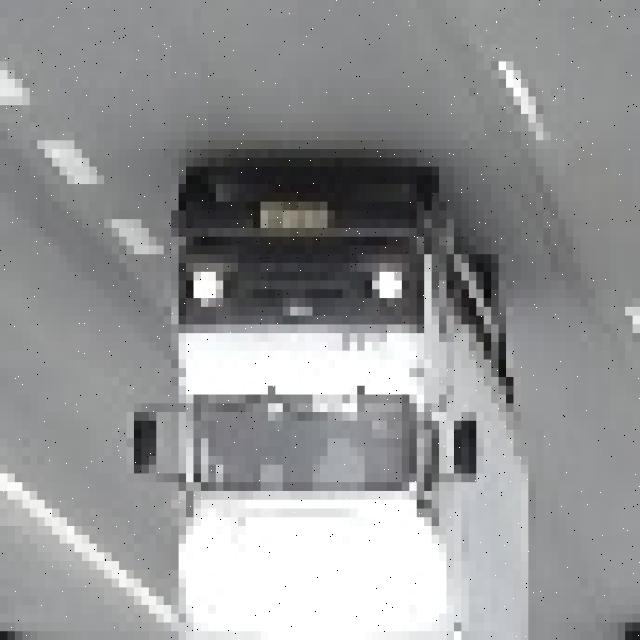truck: (142, 167, 544, 640)
